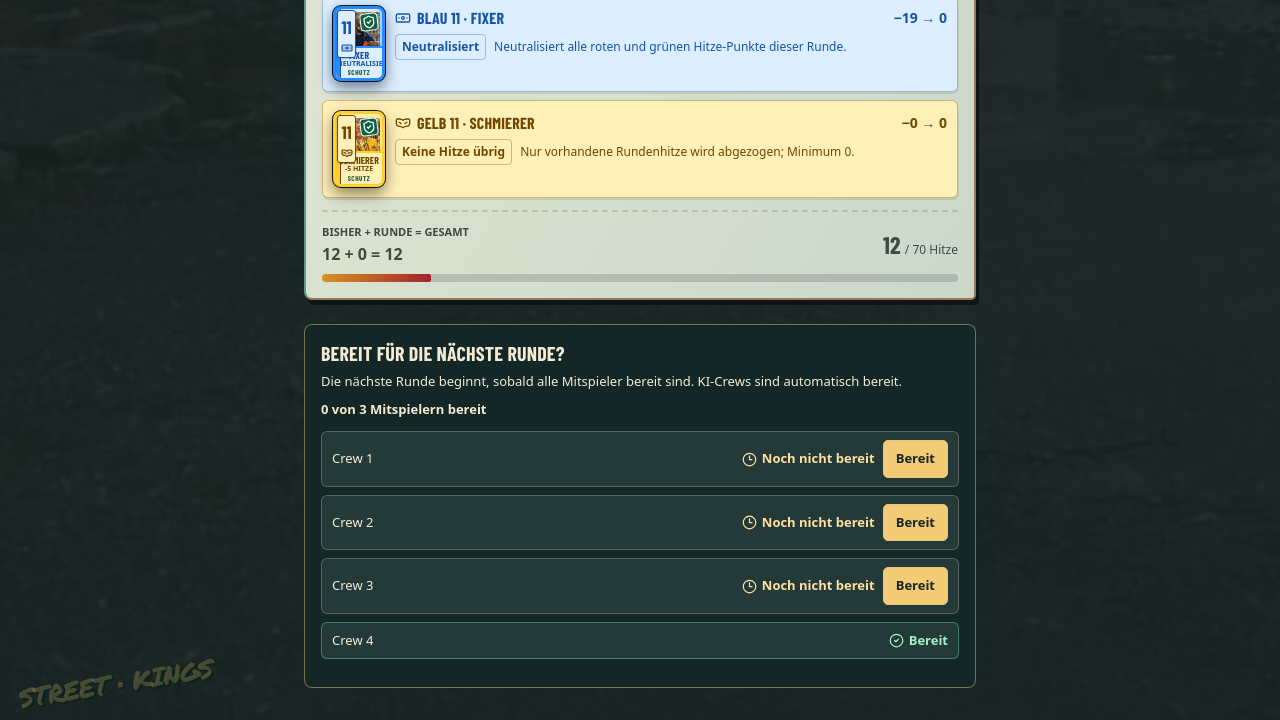
Test: hotseat readies only the selected human and requires a separate confirmation from each
What coordinates should you click on to do the following:
click the button with test id "btn-ready-player-"
I would click on:
 (915, 523)
Its box is [883,504,948,541].
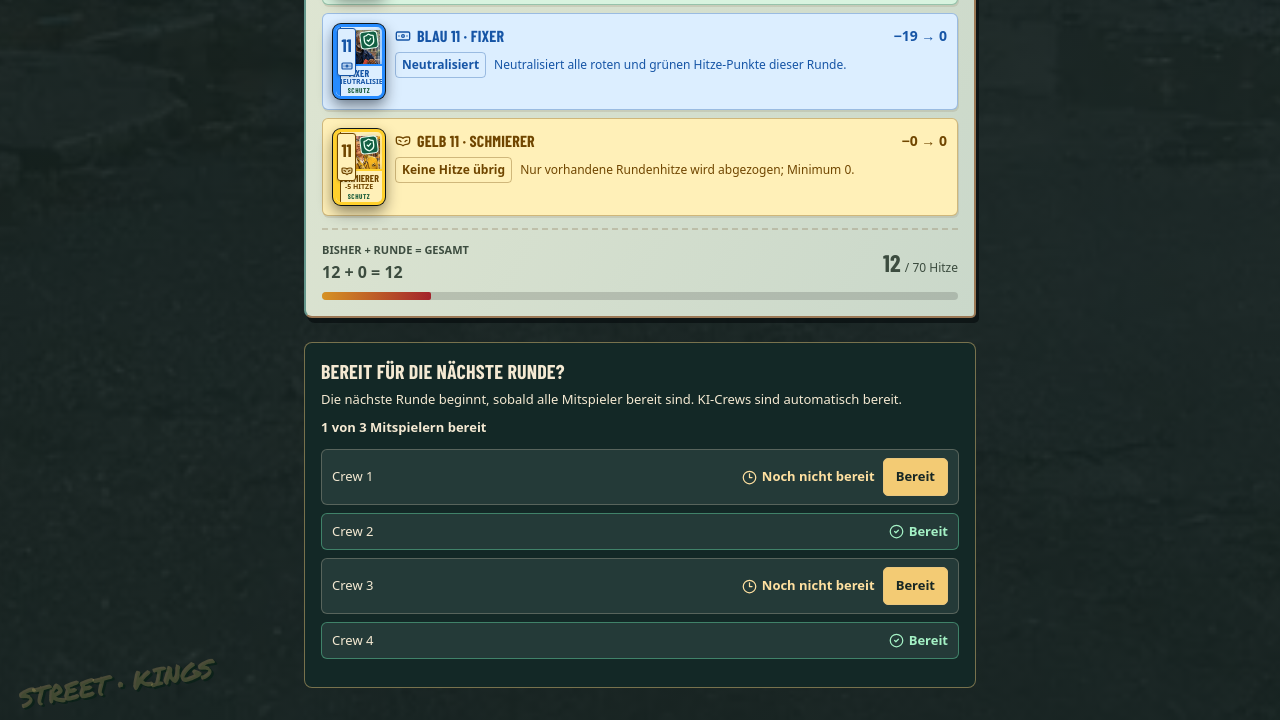
expect the button with test id "btn-ready-player-1" is gone: met
expect the message with test id "round-ready-status" reads "1 von 3 Mitspielern bereit": met, box [321,418,486,436]
